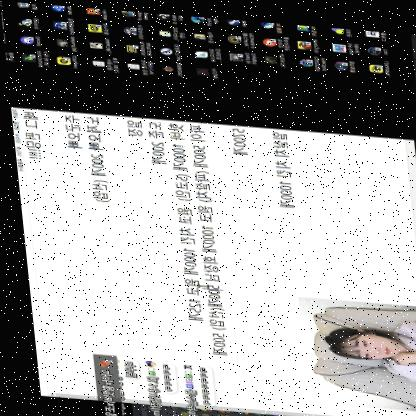streamer: (315, 309, 416, 406)
